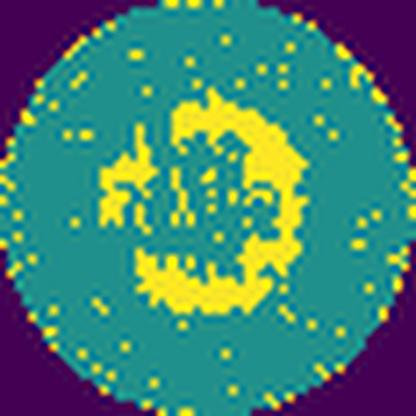Donut: (87, 86, 312, 323)
